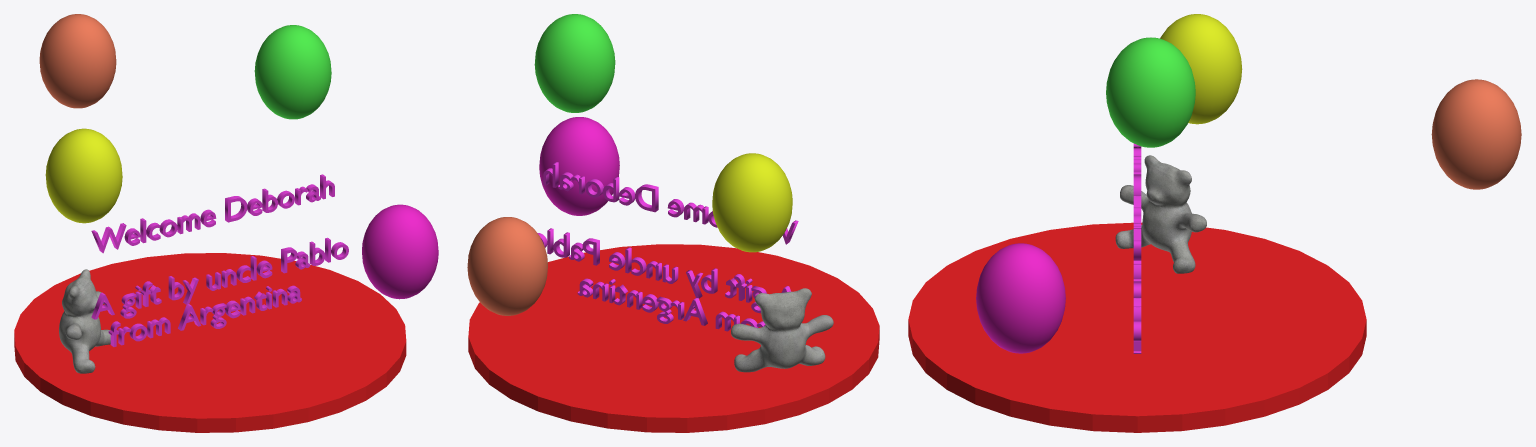
File: debwelcome.glb
3 views of the same model, side by side, from view 1: azimuth 30°, elevation 25°; view 2: azimuth 150°, elevation 25°; view 3: azimuth 270°, elevation 25° (orthographic). The views are drawn at different scales.
Parts seen in each view (by area): view 1: Circle, Text, Sphere.002, Sphere, Sphere.003, Sphere.001, Sphere.004; view 2: Circle, Text, Sphere.001, Sphere.002, Sphere.003, Sphere, Sphere.004; view 3: Circle, Sphere.002, Sphere.003, Sphere, Sphere.004, Sphere.001, Text.
Boxes of the visible parts, bbox=[...] form: Circle: bbox=[14, 253, 406, 432]; Text: bbox=[91, 174, 348, 346]; Sphere.002: bbox=[39, 14, 116, 108]; Sphere: bbox=[362, 204, 438, 299]; Sphere.003: bbox=[254, 25, 331, 119]; Sphere.001: bbox=[45, 128, 122, 223]; Sphere.004: bbox=[59, 269, 110, 373]; Circle: bbox=[468, 244, 879, 432]; Text: bbox=[537, 162, 798, 331]; Sphere.001: bbox=[712, 153, 792, 252]; Sphere.002: bbox=[467, 217, 547, 315]; Sphere.003: bbox=[534, 14, 615, 112]; Sphere: bbox=[539, 117, 619, 215]; Sphere.004: bbox=[731, 288, 833, 372]; Circle: bbox=[908, 222, 1366, 432]; Sphere.002: bbox=[1431, 79, 1521, 189]; Sphere.003: bbox=[1106, 37, 1195, 147]; Sphere: bbox=[976, 243, 1065, 353]; Sphere.004: bbox=[1115, 155, 1206, 273]; Sphere.001: bbox=[1160, 14, 1242, 124]; Text: bbox=[1133, 143, 1141, 353].
Size of the model in its own units: 13.75 by 11.34 by 18.22.
7 materials, 1 textured.
